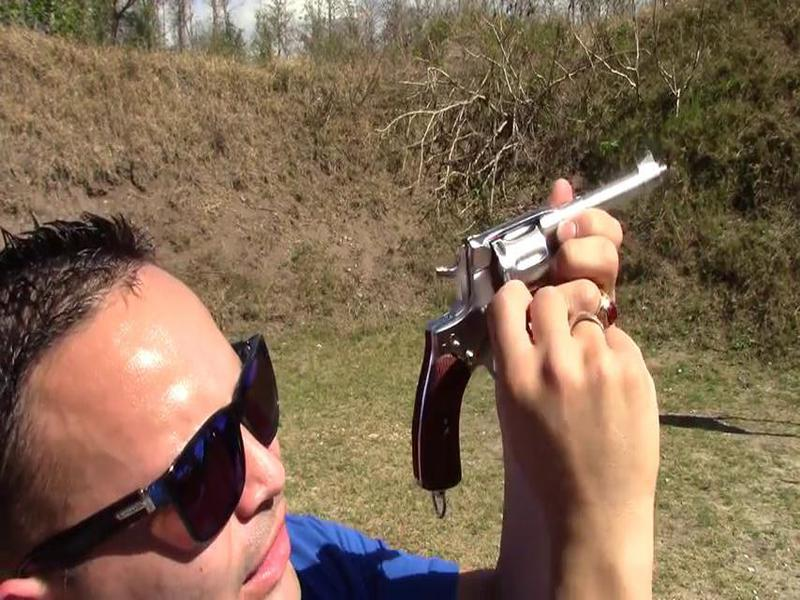Revolver: (396, 140, 677, 513)
